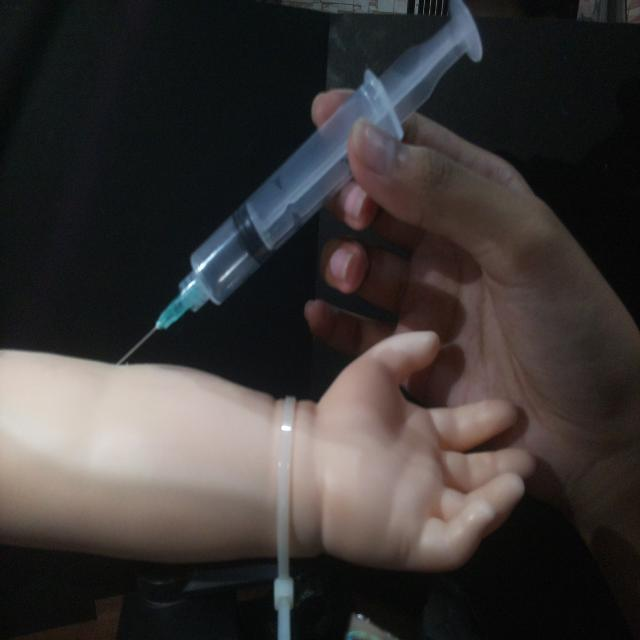30deg: (112, 2, 486, 367)
